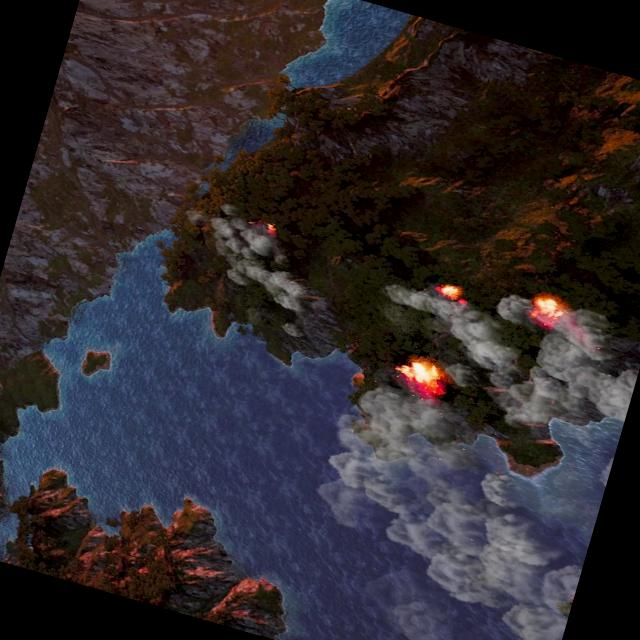fire: (391, 352, 454, 401), (526, 290, 568, 329), (436, 280, 469, 302), (262, 220, 277, 234)
smoke: (277, 377, 614, 640), (362, 258, 640, 455), (190, 206, 332, 325)
